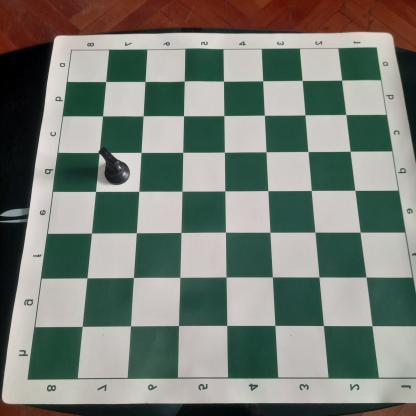black-knight: (99, 147, 132, 186)
